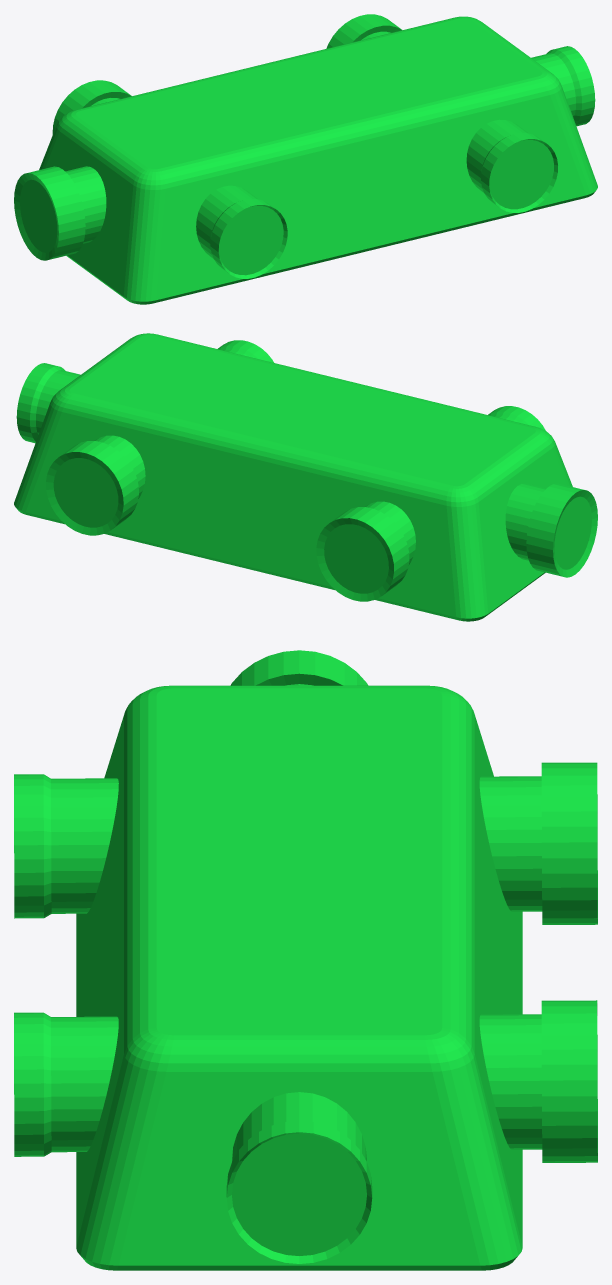
File: Num2.fbx
3 renders of one model, top to bottom at view 1: azimuth 30°, elevation 25°; view 2: azimuth 150°, elevation 25°; view 3: azimuth 270°, elevation 25°, orthographic. The views are drawn at different scales.
Visible parts, largest first — view 1: Cube.001; view 2: Cube.001; view 3: Cube.001.
Boxes of the visible parts, box(x1,y1,x2,y2) form: Cube.001: box(14, 14, 597, 304); Cube.001: box(14, 333, 597, 621); Cube.001: box(14, 650, 597, 1270).
Size of the model in its own units: 4.98 by 1 by 2.59.
